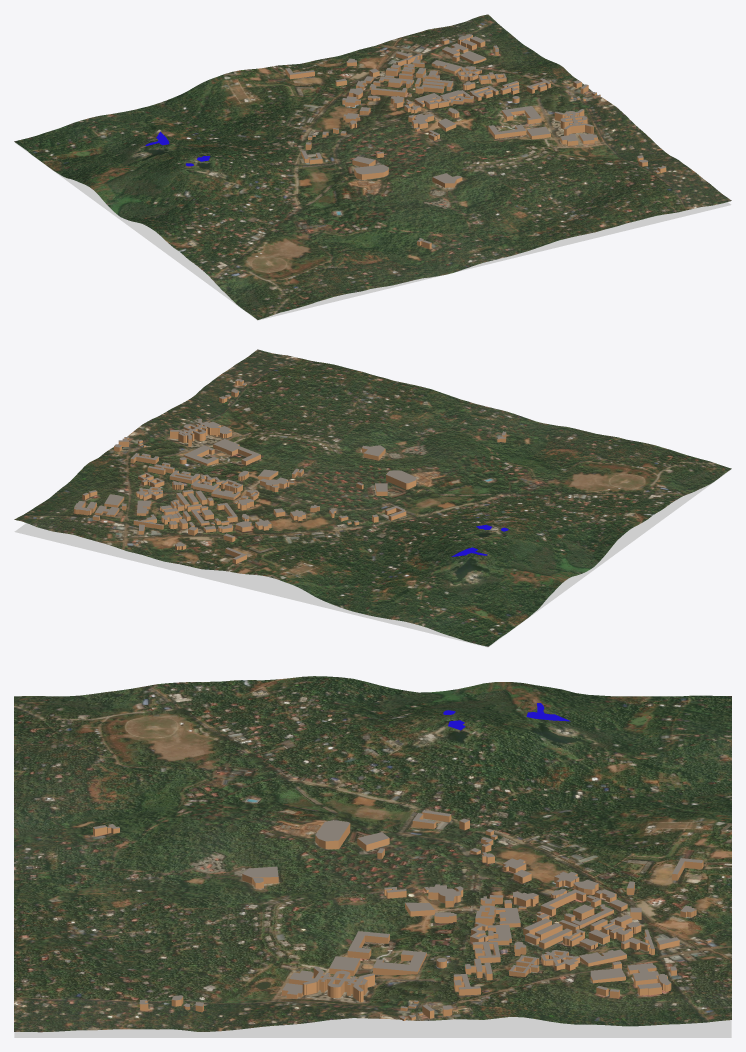
The model's file is map2.glb.
The picture shows the model from 3 angles, top to bottom: view 1: azimuth 30°, elevation 25°; view 2: azimuth 150°, elevation 25°; view 3: azimuth 270°, elevation 25°; orthographic projection. The views are drawn at different scales.
Parts seen in each view (by area): view 1: Terrain, map.osm_buildings, Terrain_envelope; view 2: Terrain, map.osm_buildings, Terrain_envelope; view 3: Terrain, map.osm_buildings, Terrain_envelope.
Part boxes in pixels (<box>): Terrain: <box>14,14,731,319</box>; map.osm_buildings: <box>285,34,666,248</box>; Terrain_envelope: <box>14,142,731,320</box>; Terrain: <box>14,349,731,646</box>; map.osm_buildings: <box>74,379,506,563</box>; Terrain_envelope: <box>14,469,731,647</box>; Terrain: <box>14,676,731,1032</box>; map.osm_buildings: <box>93,810,711,1020</box>; Terrain_envelope: <box>14,1017,731,1037</box>.
Size of the model in its own units: 1915 by 109 by 1701.
4 materials, 1 textured.
